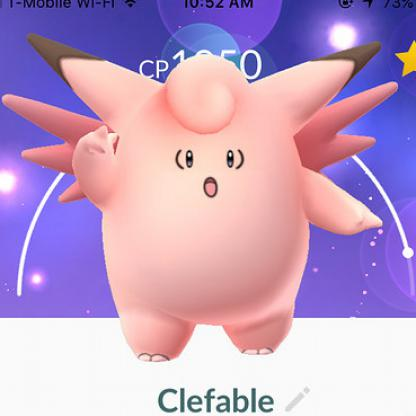Clefable: (8, 20, 401, 369)
